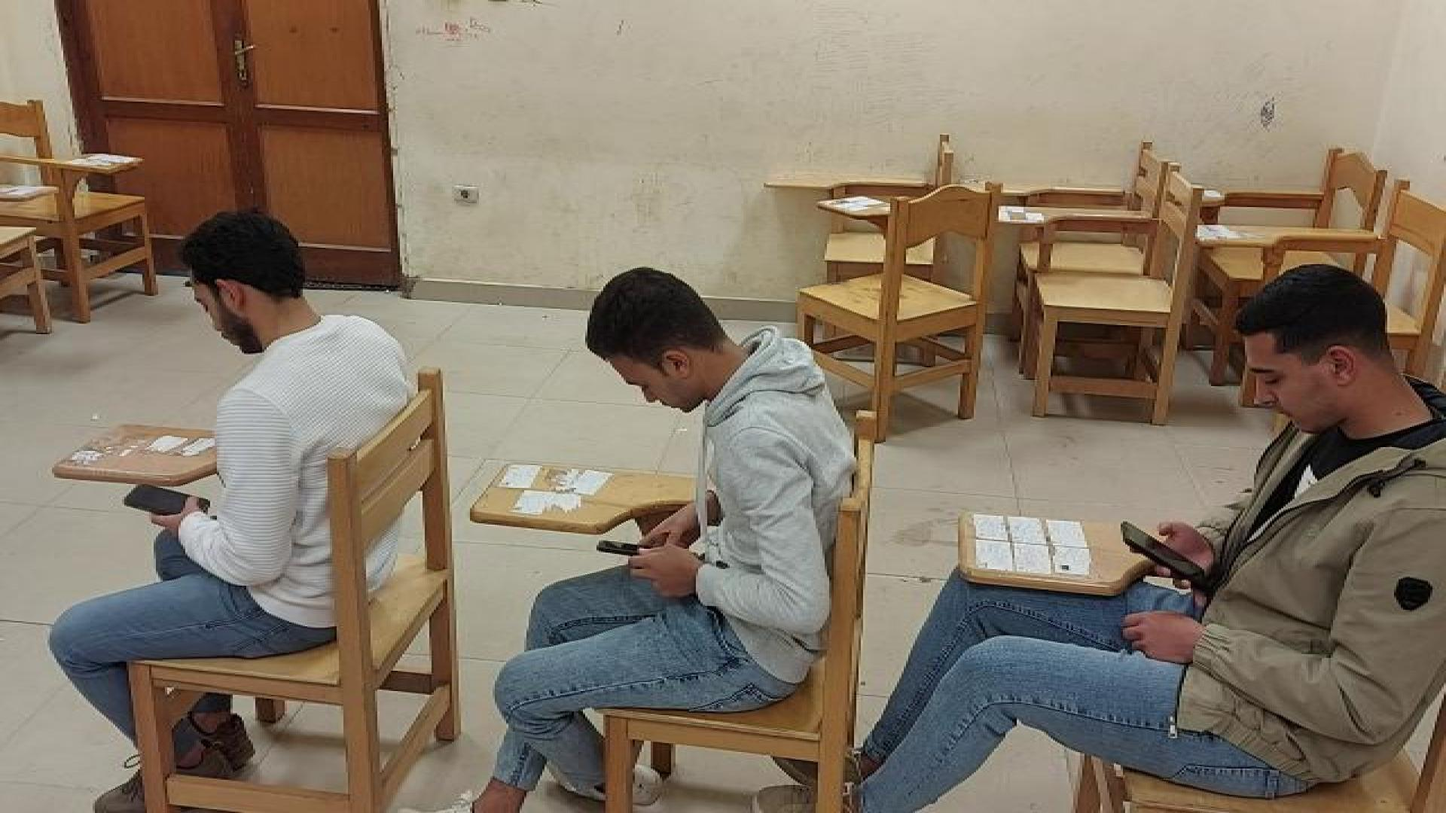phone: (1116, 516, 1202, 580), (117, 479, 212, 523), (593, 533, 663, 559)
